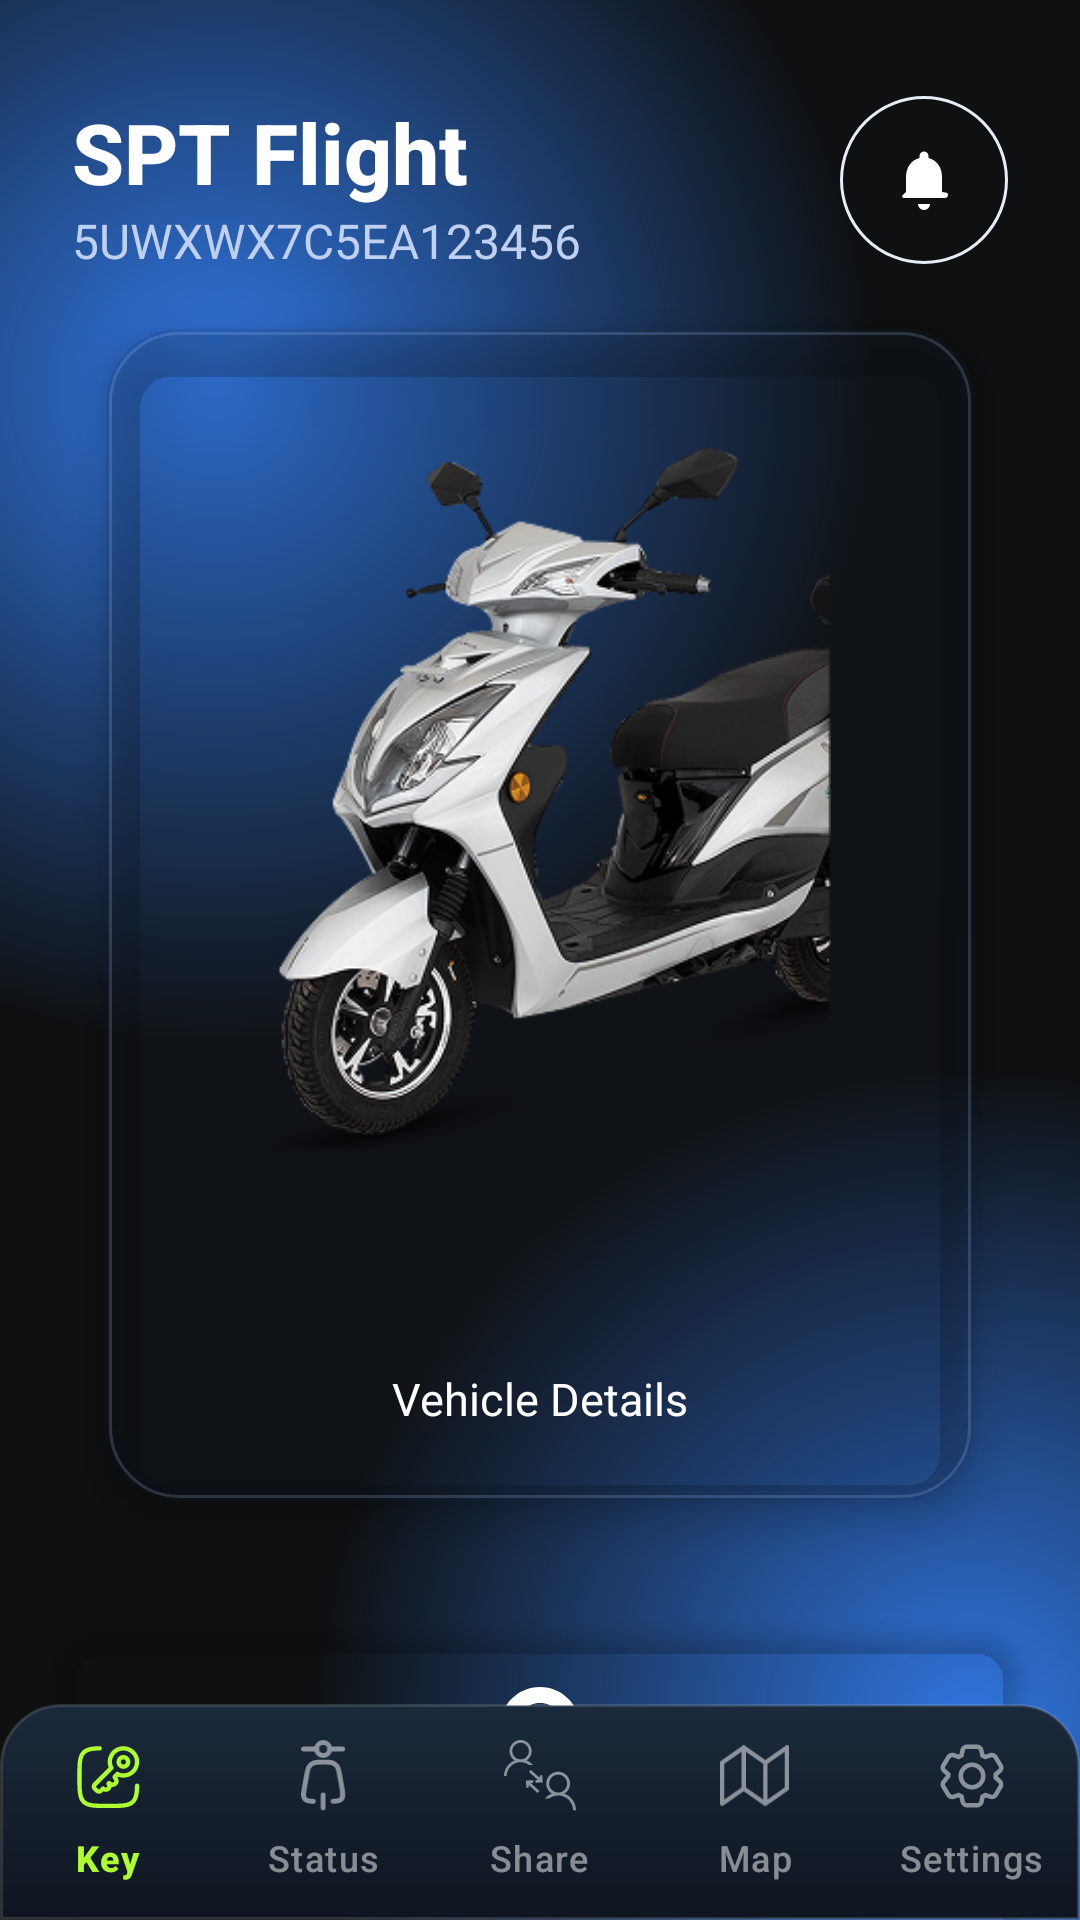

Icon click points for this 1080w x 1920h phone screenshot, format [x,y]:
Notifications: [925,180]
